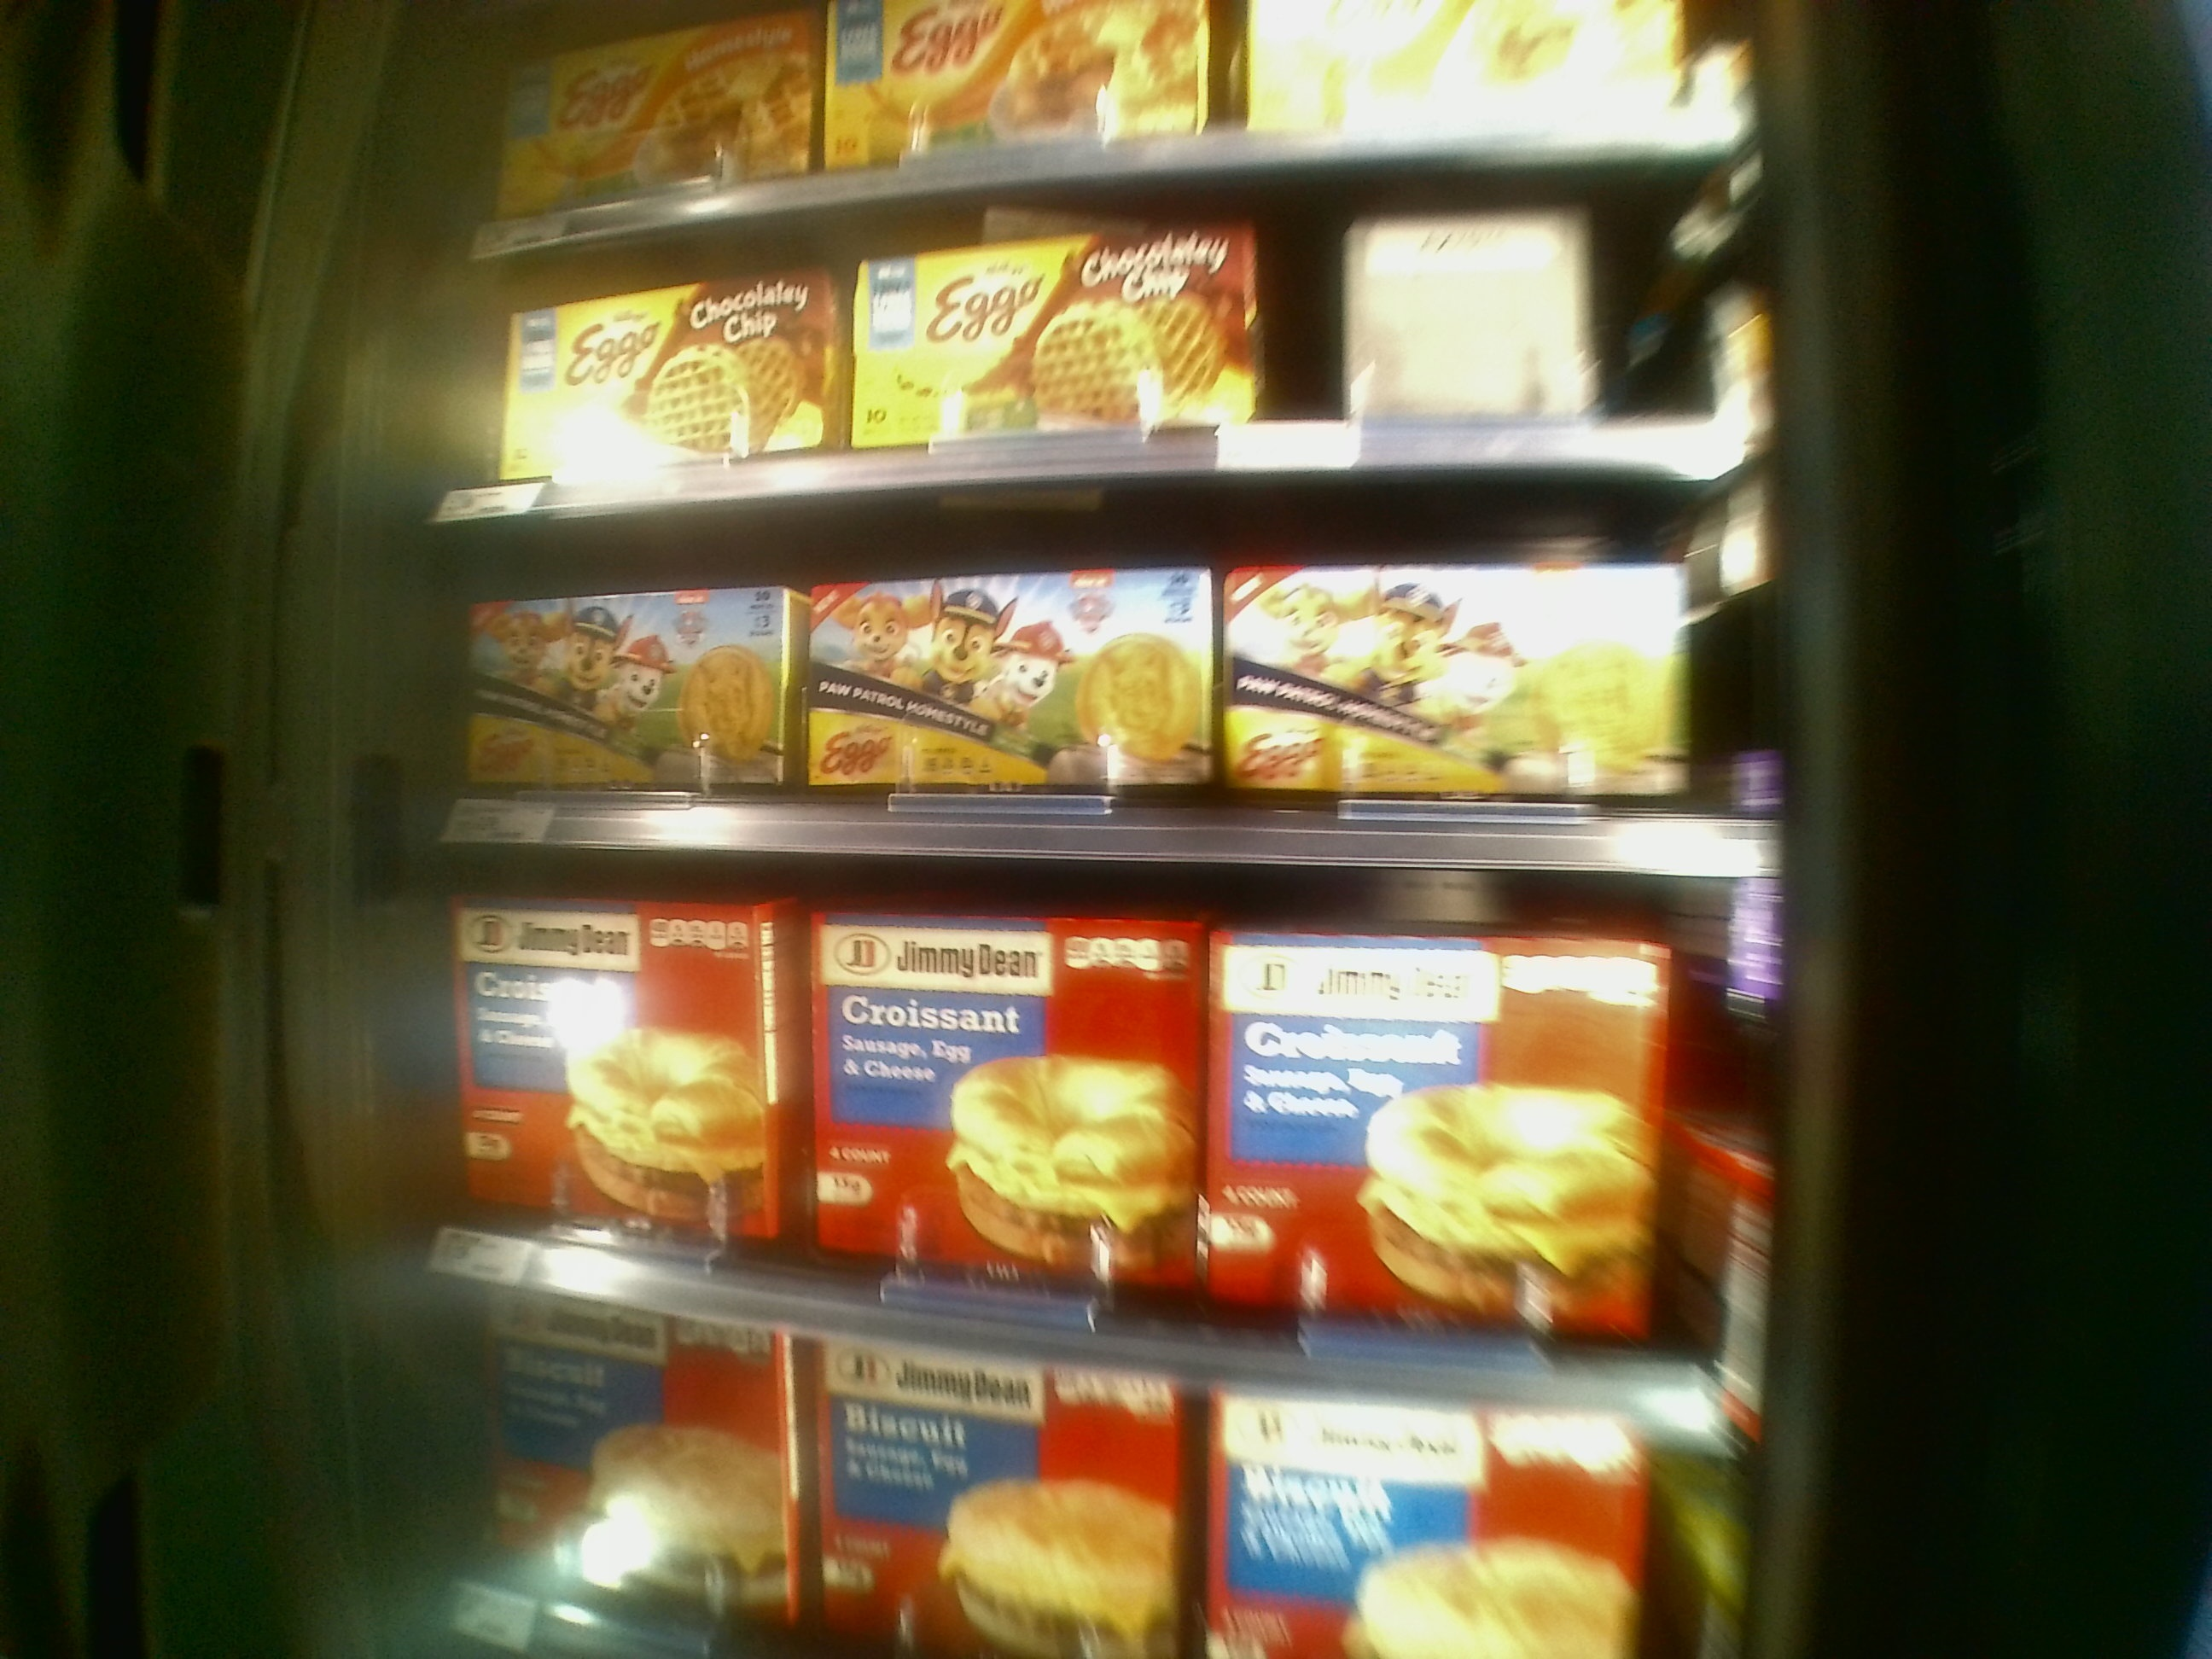shelf: (455, 847, 1797, 1405), (441, 465, 1777, 870), (446, 148, 1766, 516)
